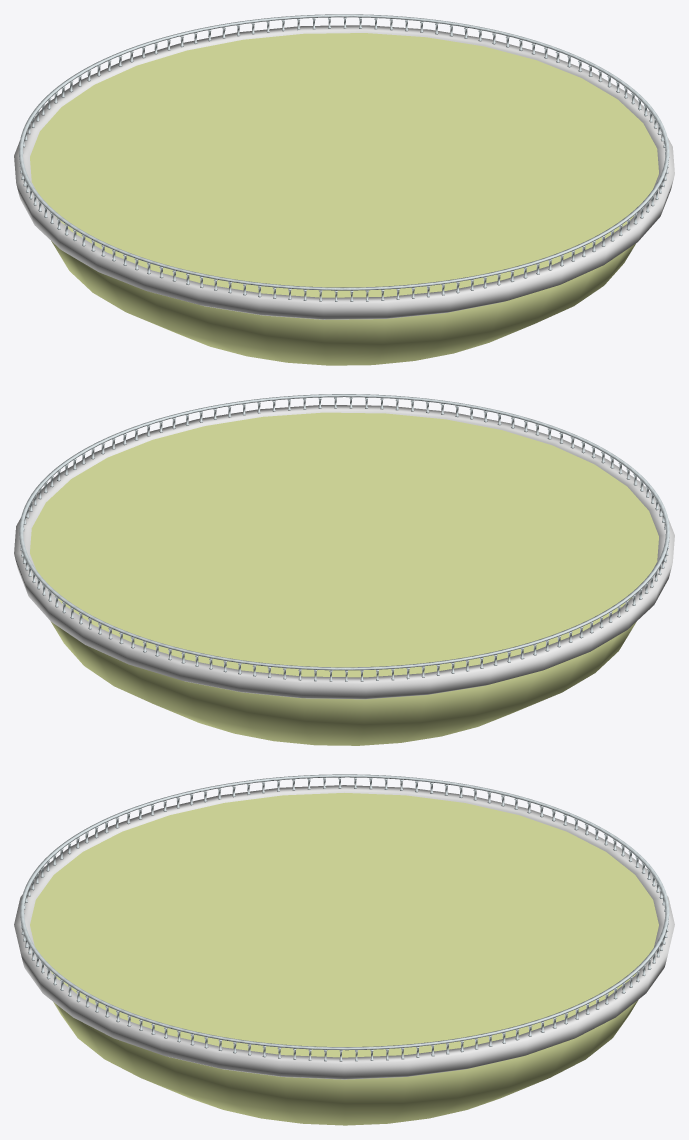
File: MediumPlatform.fbx
3 renders of one model, top to bottom at view 1: azimuth 30°, elevation 25°; view 2: azimuth 150°, elevation 25°; view 3: azimuth 270°, elevation 25°, orthographic.
Visible parts, largest first — view 1: GrassPlatform, Circle, GrassShader, PlatformRailing; view 2: GrassPlatform, Circle, GrassShader, PlatformRailing; view 3: GrassPlatform, Circle, GrassShader, PlatformRailing.
Part boxes in pixels (box(x1,y1,x2,y2)): GrassPlatform: box(30, 33, 658, 297); Circle: box(14, 25, 674, 319); GrassShader: box(51, 241, 635, 365); PlatformRailing: box(19, 14, 669, 301); GrassPlatform: box(30, 412, 658, 677); Circle: box(14, 405, 674, 699); GrassShader: box(50, 621, 636, 745); PlatformRailing: box(19, 394, 669, 681); GrassPlatform: box(30, 793, 658, 1057); Circle: box(14, 785, 674, 1079); GrassShader: box(53, 1000, 638, 1125); PlatformRailing: box(20, 774, 669, 1061).
Bounding box in the file's own units: 22500 × 6073 × 22500.
